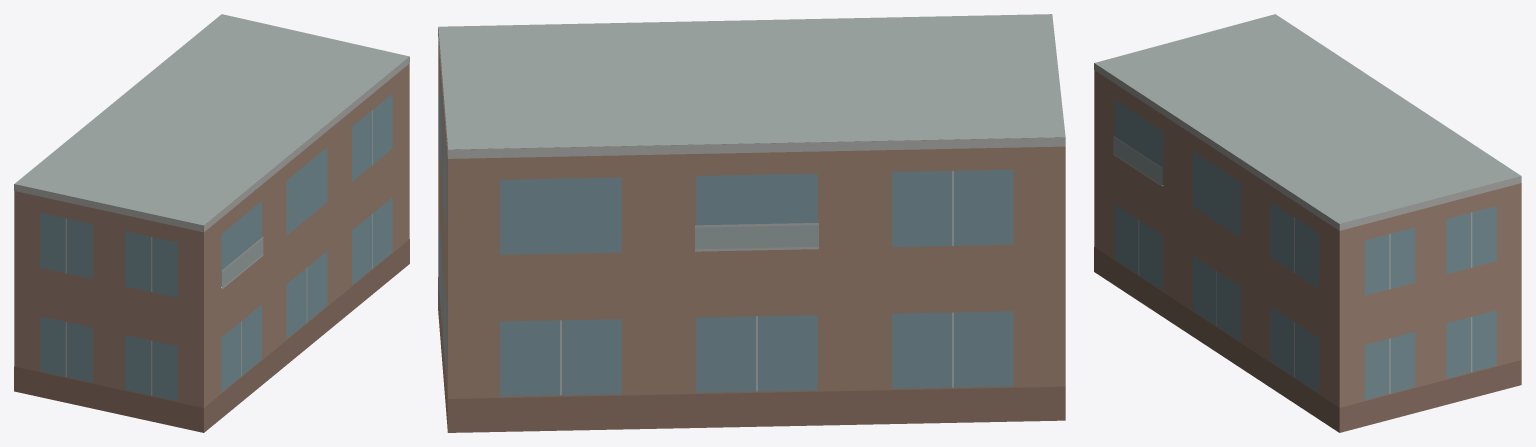
Rendered from survey-upis-32921088.glb.
The picture shows the model from 3 angles, left to right: view 1: azimuth 30°, elevation 25°; view 2: azimuth 150°, elevation 25°; view 3: azimuth 270°, elevation 25°; orthographic projection. The views are drawn at different scales.
Parts seen in each view (by area): view 1: survey-upis-32921088.tmp; view 2: survey-upis-32921088.tmp; view 3: survey-upis-32921088.tmp.
Part boxes in pixels (box(x1,y1,x2,y2)): survey-upis-32921088.tmp: box(14, 14, 409, 432); survey-upis-32921088.tmp: box(438, 14, 1065, 432); survey-upis-32921088.tmp: box(1094, 14, 1521, 432).
Bounding box in the file's own units: 15.97 × 7.4 × 13.74.
